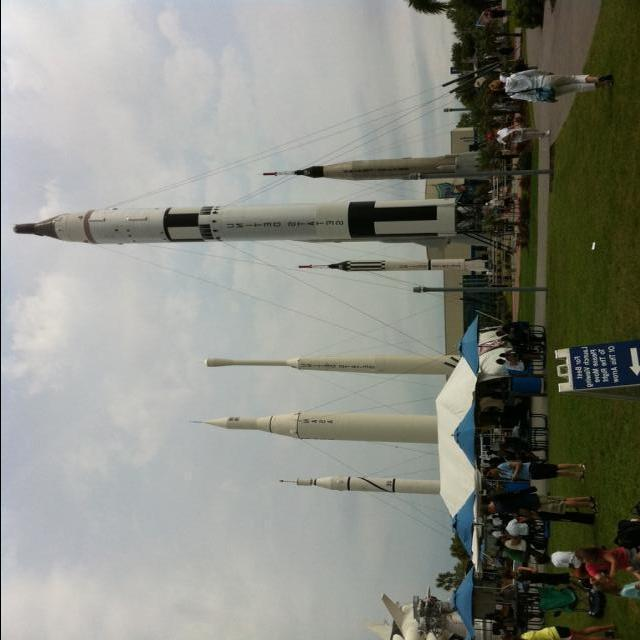missile: (18, 192, 526, 254), (194, 407, 444, 447), (262, 149, 524, 185), (204, 353, 466, 384), (276, 468, 444, 498), (292, 258, 490, 282)
